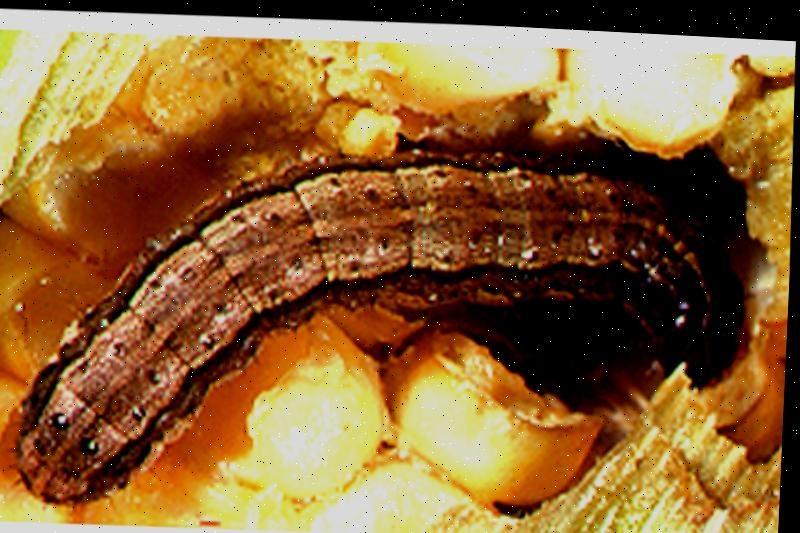fall-armyworm: (18, 150, 751, 507)
